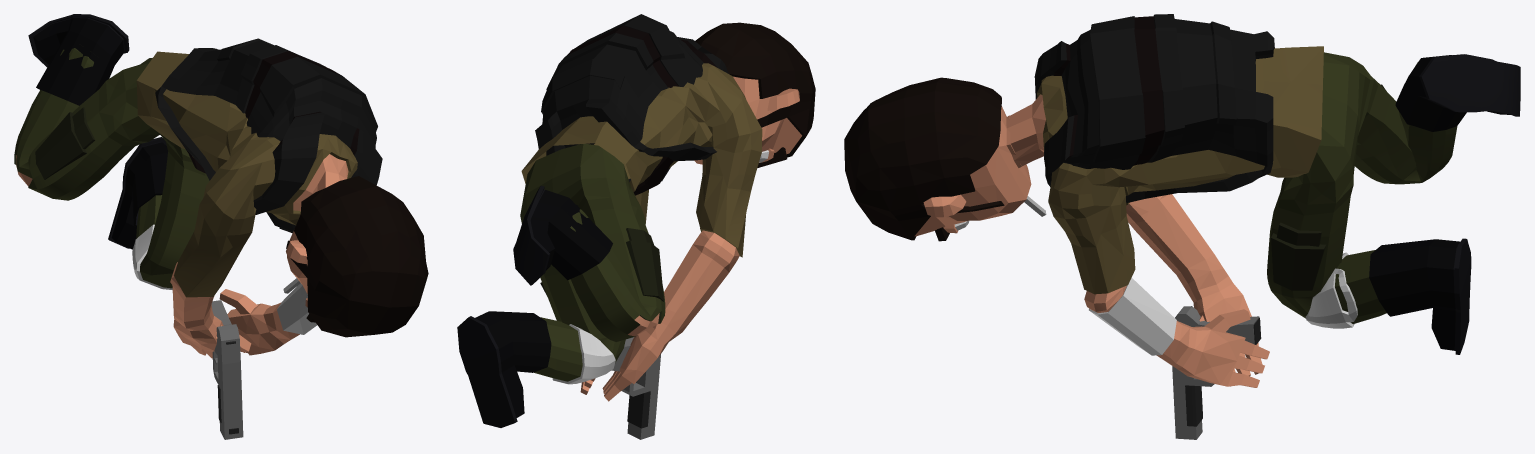
Rendered from frame_0037.obj.
3 renders of one model, left to right at view 1: azimuth 30°, elevation 25°; view 2: azimuth 150°, elevation 25°; view 3: azimuth 270°, elevation 25°, orthographic. The views are drawn at different scales.
Parts seen in each view (by area): view 1: Body, Gun; view 2: Body, Gun; view 3: Body, Gun.
Part boxes in pixels (x1=…): Body: x1=14, y1=14, x2=428, y2=358; Gun: x1=211, y1=300, x2=243, y2=439; Body: x1=457, y1=14, x2=815, y2=427; Gun: x1=611, y1=337, x2=660, y2=439; Body: x1=844, y1=14, x2=1520, y2=387; Gun: x1=1172, y1=306, x2=1261, y2=439.
Size of the model in its own units: 1.42 by 2.39 by 3.4.
